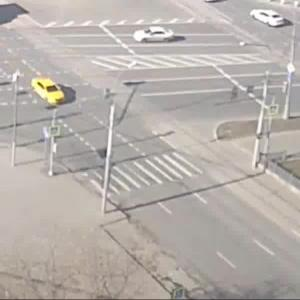car: (132, 26, 178, 49), (34, 80, 66, 105), (251, 9, 287, 29)
